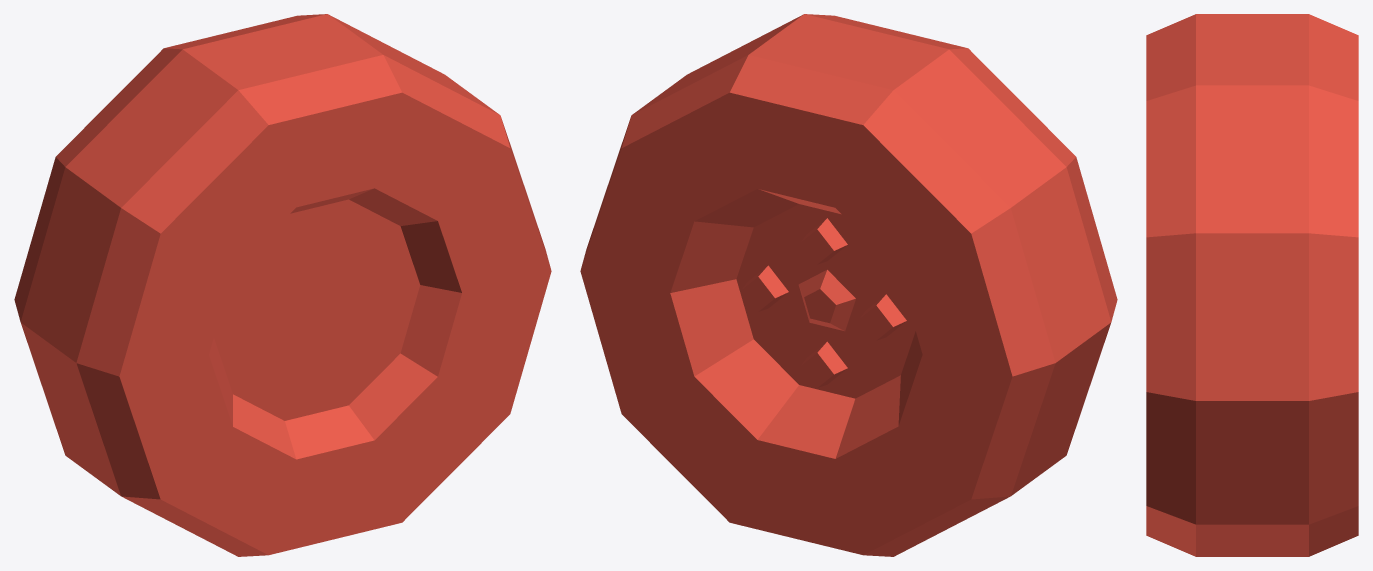
Rendered from SM_Wind_Machine_Wheels_FL.fbx.
The picture shows the model from 3 angles, left to right: view 1: azimuth 30°, elevation 25°; view 2: azimuth 150°, elevation 25°; view 3: azimuth 270°, elevation 25°; orthographic projection.
Visible parts, largest first — view 1: SM_Wind_Machine_Wheels_FL; view 2: SM_Wind_Machine_Wheels_FL; view 3: SM_Wind_Machine_Wheels_FL.
Part boxes in pixels (x1,y1,x2,y2): SM_Wind_Machine_Wheels_FL: (14,14,551,556); SM_Wind_Machine_Wheels_FL: (580,14,1117,556); SM_Wind_Machine_Wheels_FL: (1146,14,1358,556).
Bounding box in the file's own units: 15.29 × 39.41 × 37.49.
